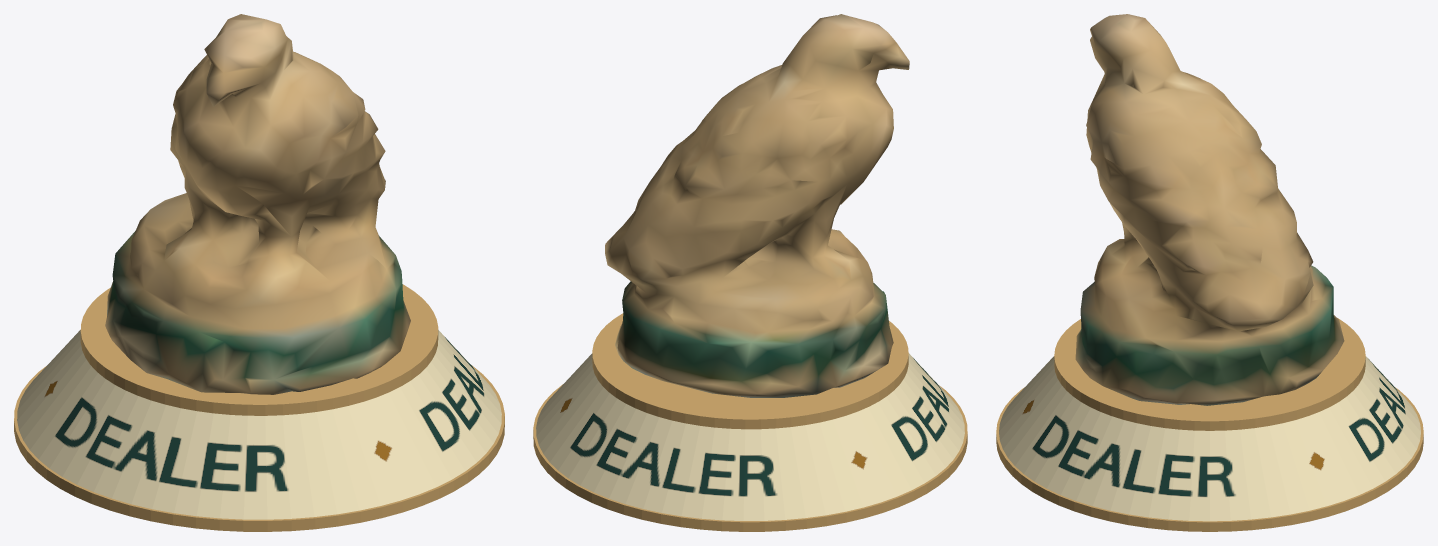
File: falcon-button.glb
3 views of the same model, side by side, from view 1: azimuth 30°, elevation 25°; view 2: azimuth 150°, elevation 25°; view 3: azimuth 270°, elevation 25° (orthographic). The views are drawn at different scales.
Visible parts, largest first — view 1: Falcon, Inscription, Bezel; view 2: Falcon, Inscription, Bezel; view 3: Falcon, Inscription, Bezel.
Boxes of the visible parts, <box> form: Falcon: <box>105,14,410,394</box>; Inscription: <box>17,330,501,519</box>; Bezel: <box>14,284,504,531</box>; Falcon: <box>605,14,909,397</box>; Inscription: <box>536,353,964,520</box>; Bezel: <box>533,313,967,531</box>; Falcon: <box>1075,14,1344,405</box>; Inscription: <box>999,356,1420,521</box>; Bezel: <box>996,318,1423,531</box>.
Size of the model in its own units: 0.081 by 0.083 by 0.081.
3 materials, 1 textured.
